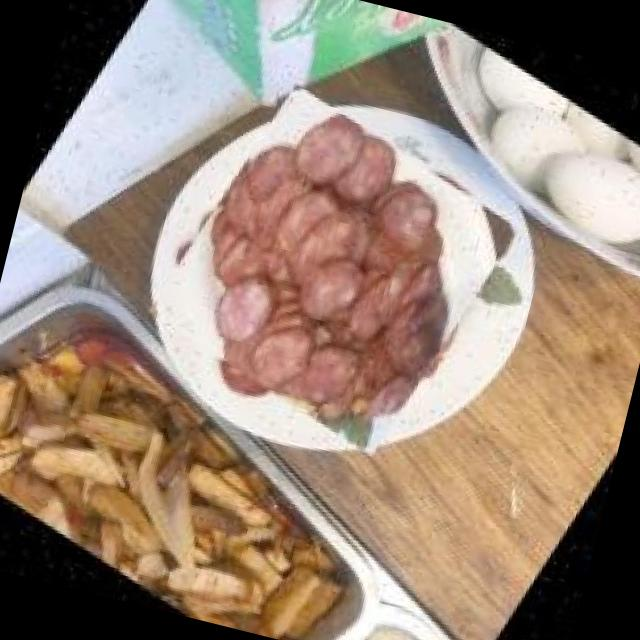chinese_sausage: (126, 63, 542, 479)
